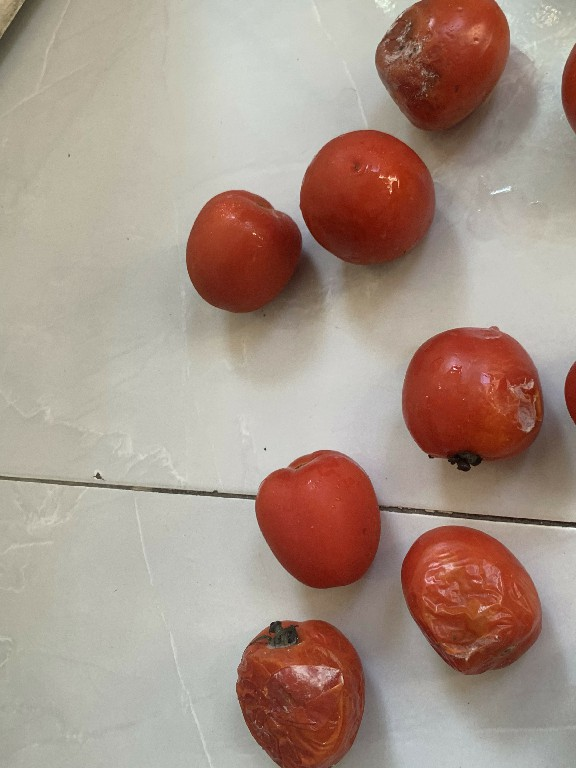NG: (219, 604, 389, 768), (385, 514, 554, 676), (385, 312, 552, 474), (364, 0, 525, 139)
OK: (291, 118, 441, 282), (245, 434, 382, 603), (174, 174, 307, 317)
